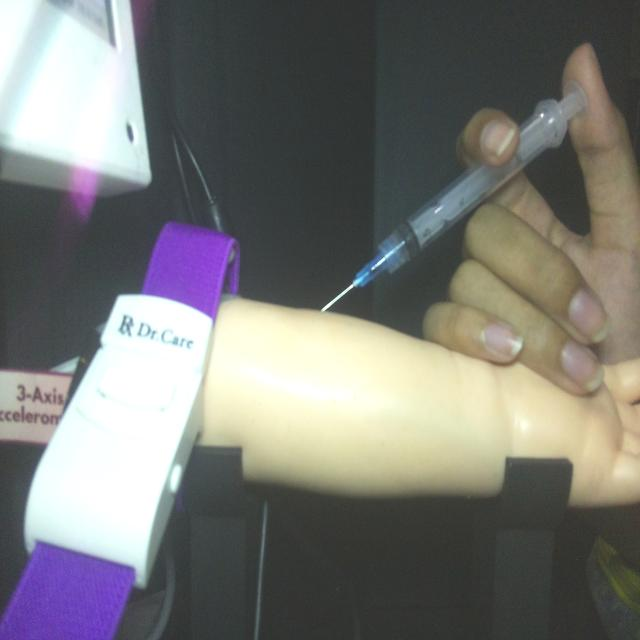28 degrees: (319, 78, 588, 314)
